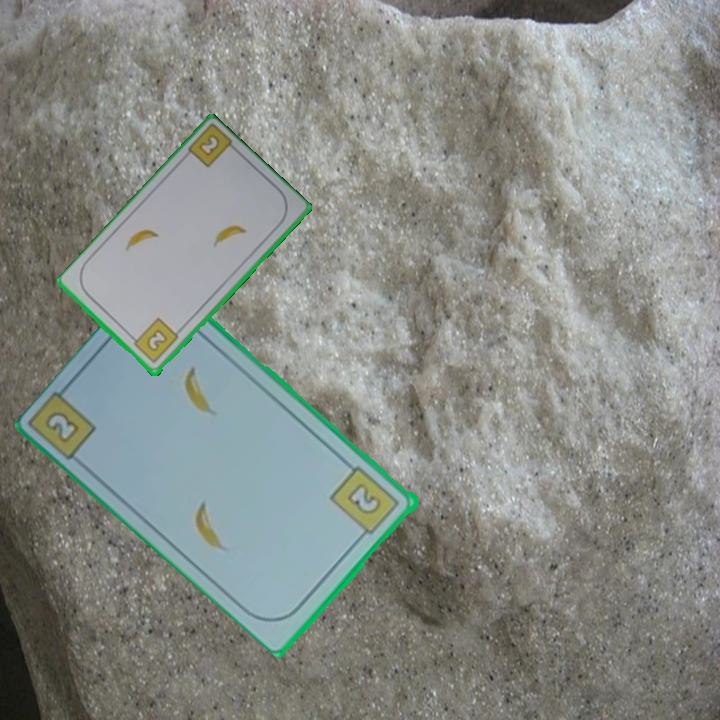2b: (326, 462, 404, 543), (127, 315, 181, 366), (42, 407, 83, 446), (195, 131, 223, 160)
